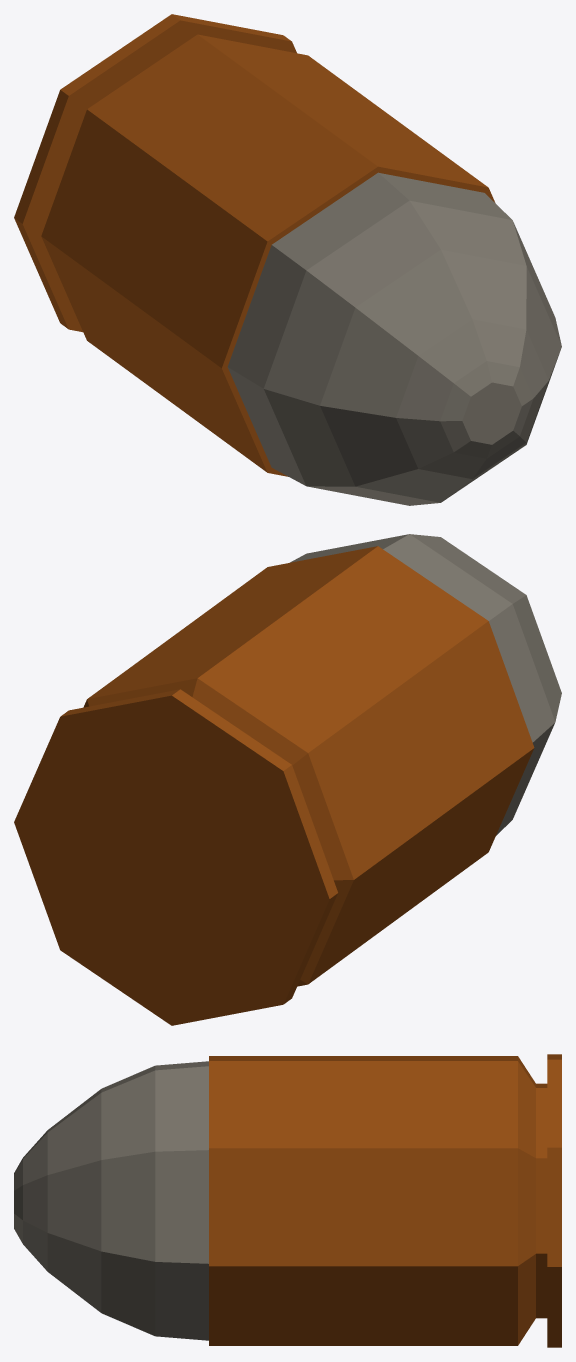
Rendered from Revolver Bullet.fbx.
3 renders of one model, top to bottom at view 1: azimuth 30°, elevation 25°; view 2: azimuth 150°, elevation 25°; view 3: azimuth 270°, elevation 25°, orthographic. The views are drawn at different scales.
Parts seen in each view (by area): view 1: Revolver Bullet; view 2: Revolver Bullet; view 3: Revolver Bullet.
Part boxes in pixels (bbox=[...]): Revolver Bullet: bbox=[14, 14, 561, 505]; Revolver Bullet: bbox=[14, 534, 561, 1025]; Revolver Bullet: bbox=[14, 1054, 561, 1347].
Size of the model in its own units: 0.0167 by 0.0167 by 0.0293.
